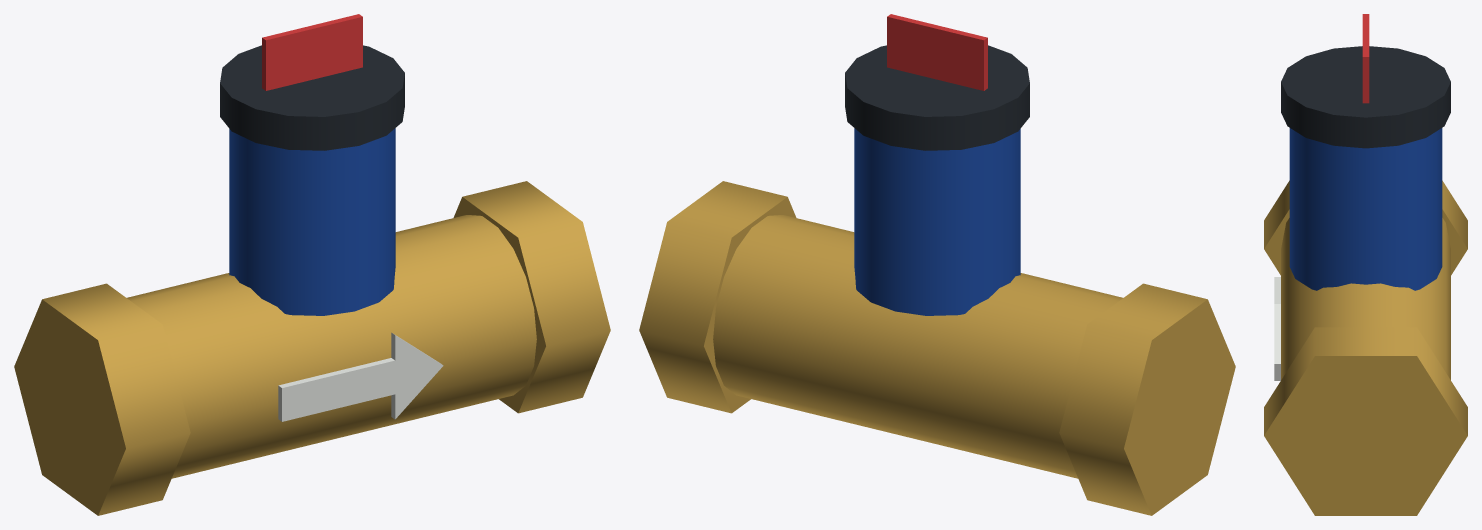
File: check-valve.glb
The picture shows the model from 3 angles, left to right: view 1: azimuth 30°, elevation 25°; view 2: azimuth 150°, elevation 25°; view 3: azimuth 270°, elevation 25°; orthographic projection. The views are drawn at different scales.
Parts seen in each view (by area): view 1: check-valve-brass, coil-nasa-blue, coil-dark-polymer, check-valve-hull-white, stuck_flag-signal-red; view 2: check-valve-brass, coil-nasa-blue, coil-dark-polymer, stuck_flag-signal-red; view 3: check-valve-brass, coil-nasa-blue, coil-dark-polymer, check-valve-hull-white, stuck_flag-signal-red.
Boxes of the visible parts, x1=… form: check-valve-brass: x1=14, y1=181, x2=610, y2=515; coil-nasa-blue: x1=229, y1=128, x2=395, y2=315; coil-dark-polymer: x1=220, y1=45, x2=404, y2=150; check-valve-hull-white: x1=278, y1=332, x2=443, y2=421; stuck_flag-signal-red: x1=262, y1=14, x2=362, y2=90; check-valve-brass: x1=639, y1=181, x2=1235, y2=515; coil-nasa-blue: x1=854, y1=128, x2=1020, y2=315; coil-dark-polymer: x1=845, y1=45, x2=1029, y2=150; stuck_flag-signal-red: x1=887, y1=14, x2=987, y2=90; check-valve-brass: x1=1264, y1=180, x2=1467, y2=515; coil-nasa-blue: x1=1289, y1=128, x2=1442, y2=290; coil-dark-polymer: x1=1281, y1=46, x2=1450, y2=148; check-valve-hull-white: x1=1274, y1=277, x2=1280, y2=380; stuck_flag-signal-red: x1=1362, y1=14, x2=1369, y2=103.
Bounding box in the file's own units: 0.3 × 0.242 × 0.12.
